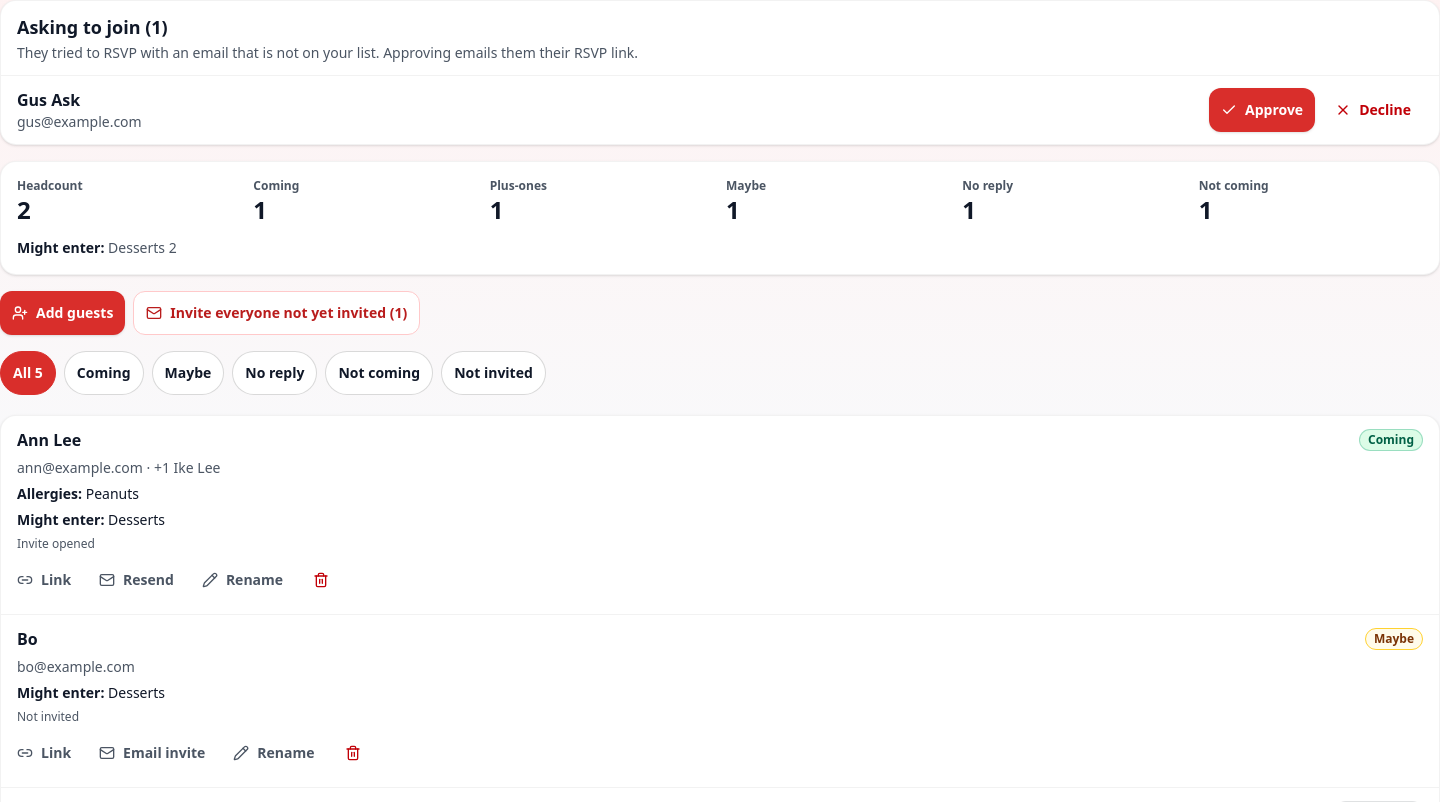
it: GuestsTab › shows a personal link to copy
Click the button "Link" below "bo@example.com" at (44, 753), box [5,731,83,775]
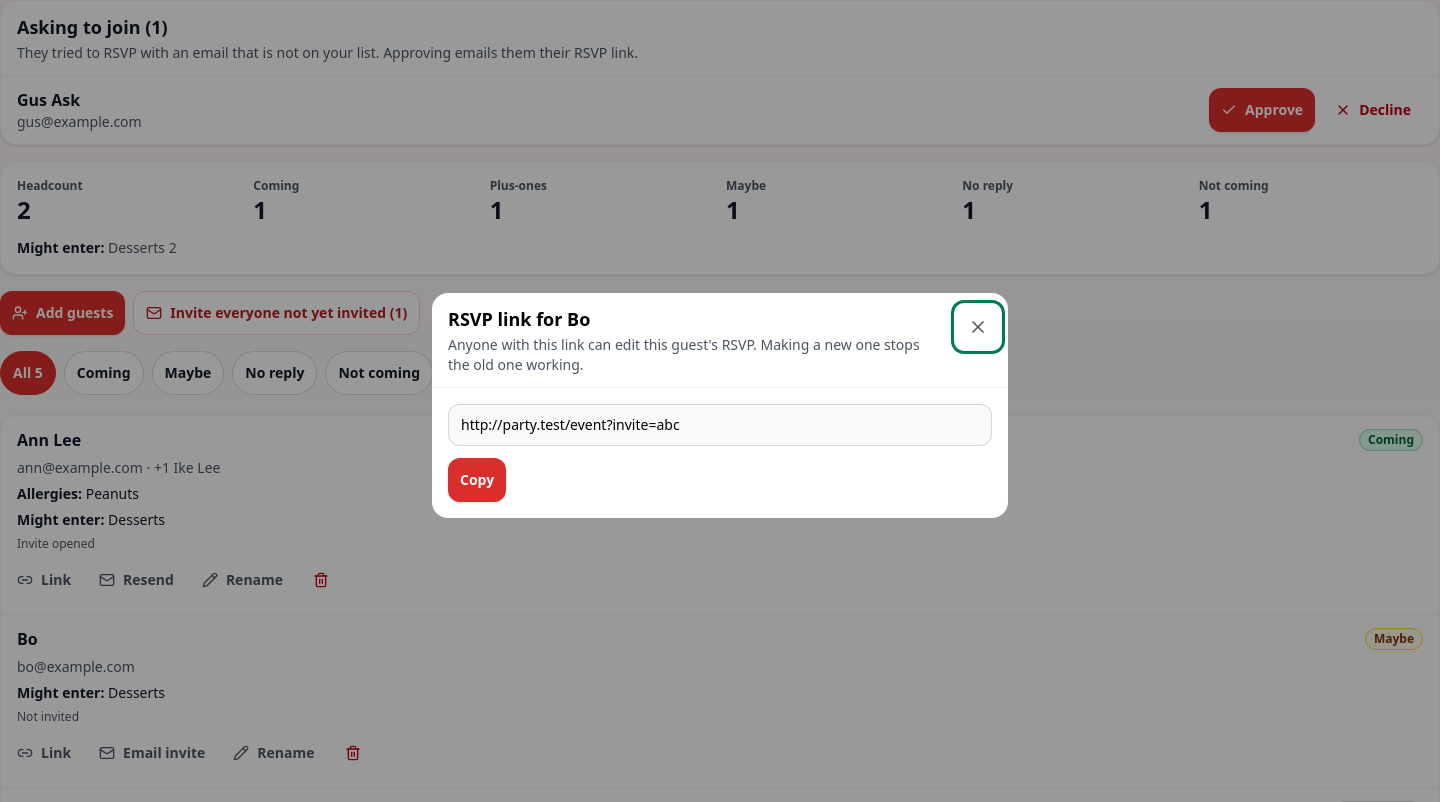
Check: the field showing "http://party.test/event?invite=abc" is shown, box [448,404,992,446]
